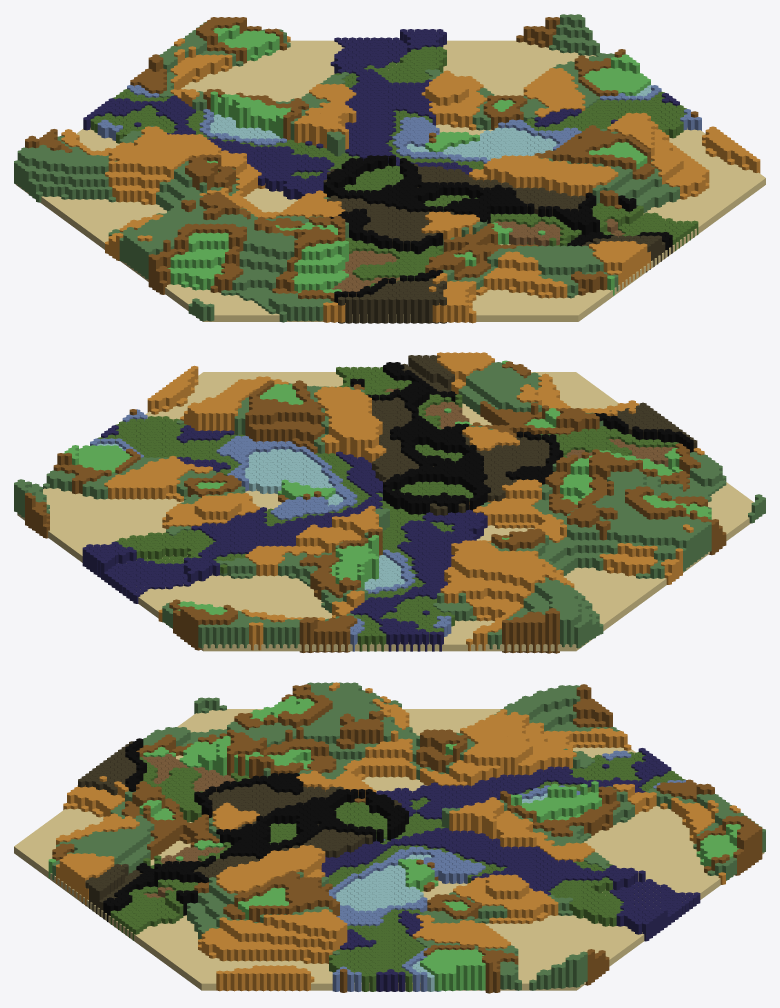
Rendered from 0029_tile_1120001.fbx.
The picture shows the model from 3 angles, top to bottom: view 1: azimuth 30°, elevation 25°; view 2: azimuth 150°, elevation 25°; view 3: azimuth 270°, elevation 25°; orthographic projection.
Parts seen in each view (by area): view 1: Plane; view 2: Plane; view 3: Plane.
Boxes of the visible parts, x1,y1,x2,y2 form: Plane: [14, 14, 765, 323]; Plane: [14, 352, 765, 653]; Plane: [14, 682, 765, 993].
Size of the model in its own units: 1008 by 67.36 by 1152.
